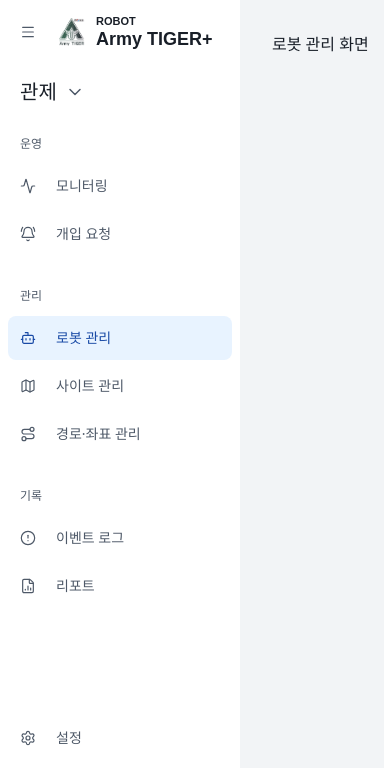
Test: PlatformShell › 런처에서 현재 앱을 선택하면 작업 페이지를 유지한다
Click the button with aria-label "미니앱 전환 · 관제": (52, 92) [8,68,97,116]
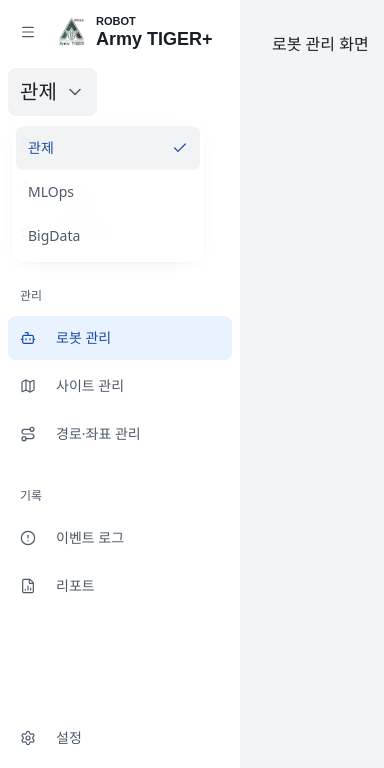
Click the menu item "관제": (108, 148) [16,126,200,170]
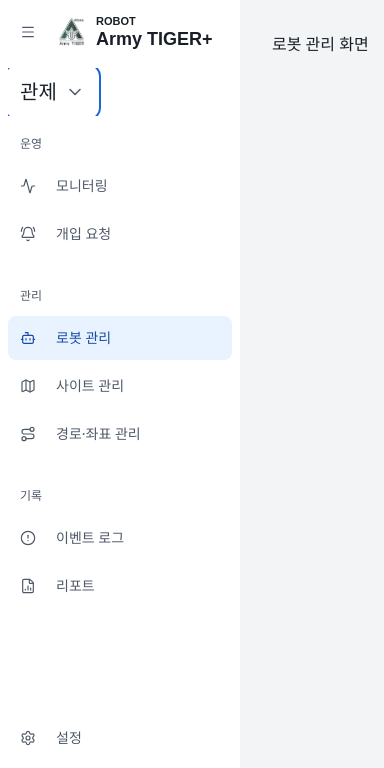
Check: the menu is gone
